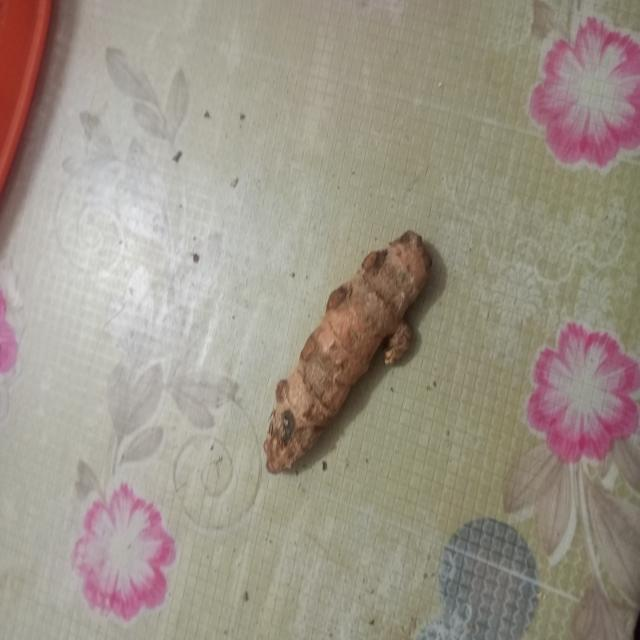ginger: (270, 230, 429, 453)
